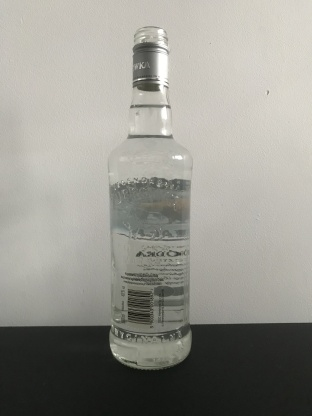nakretka: (130, 24, 171, 91)
